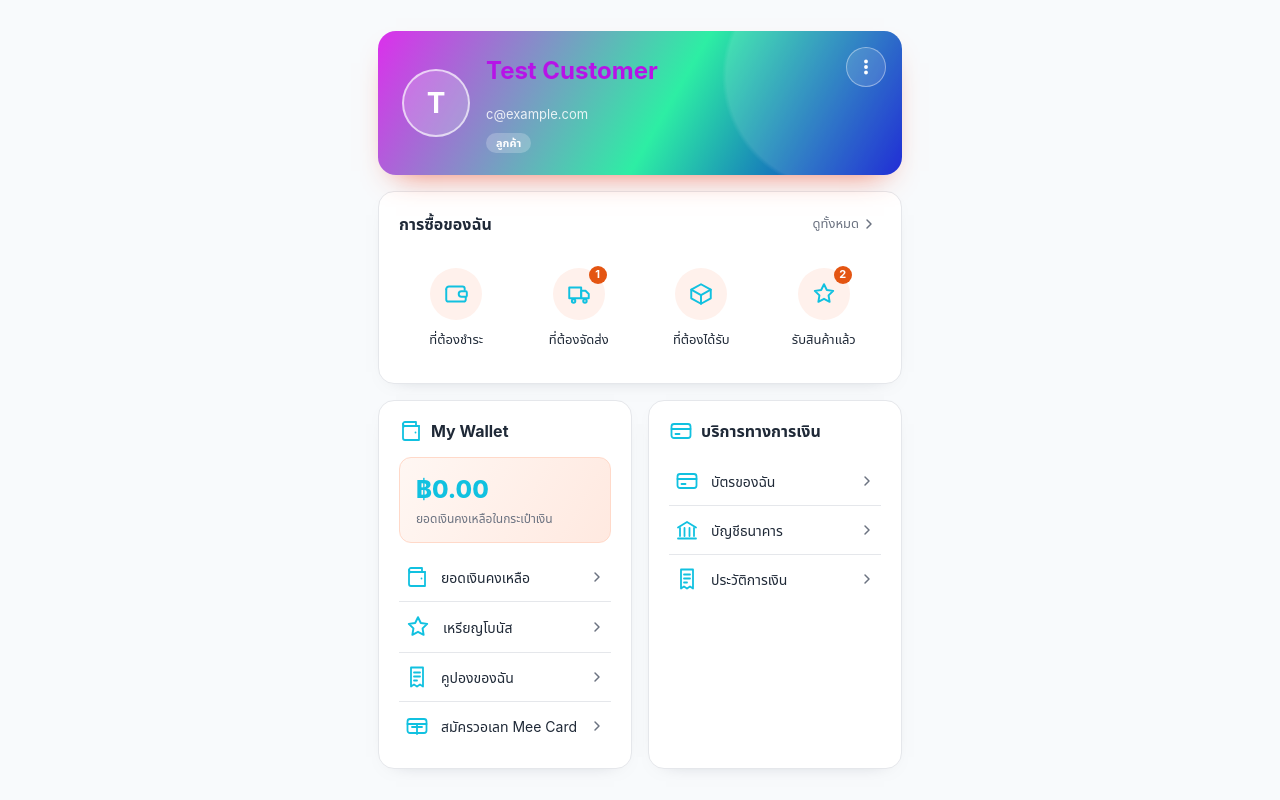
Account -> Order Modal -> KBZPay Popup integration › รับสินค้าแล้ว modal lists only delivered orders newest first with the correct badge
Later steps or results of the test are not shown.
Expected: the text with class "acct-tile-badge" reads "2", top-left (839, 267), bottom-right (846, 281)
Click the button "2 รับสินค้าแล้ว" at (824, 308), box top-left (766, 252), bottom-right (881, 365)
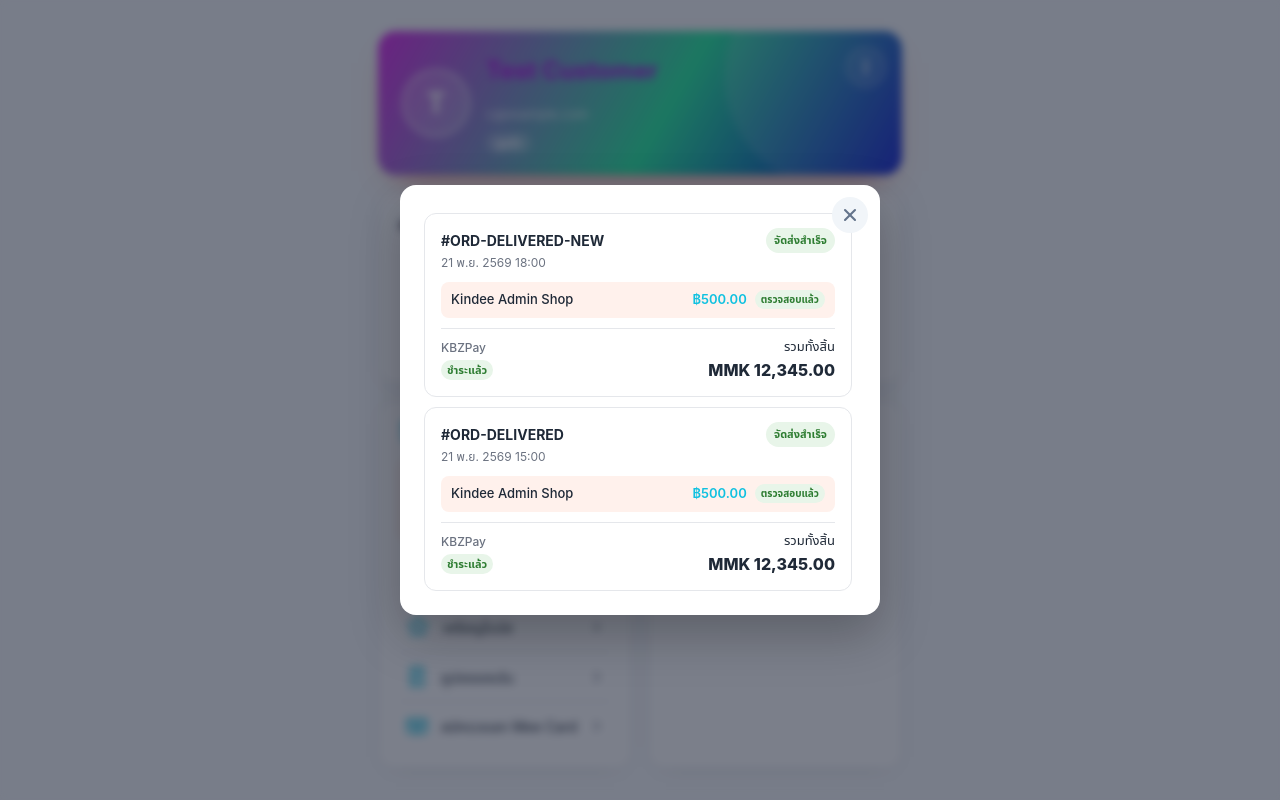
Expected: the button "#ORD-DELIVERED-NEW" shows "Kindee Admin Shop", top-left (424, 213), bottom-right (852, 397)
Expected: the button "#ORD-DELIVERED-NEW" shows "ตรวจสอบแล้ว", top-left (424, 213), bottom-right (852, 397)
Expected: the button "#ORD-DELIVERED-NEW" shows "KBZPay", top-left (424, 213), bottom-right (852, 397)
